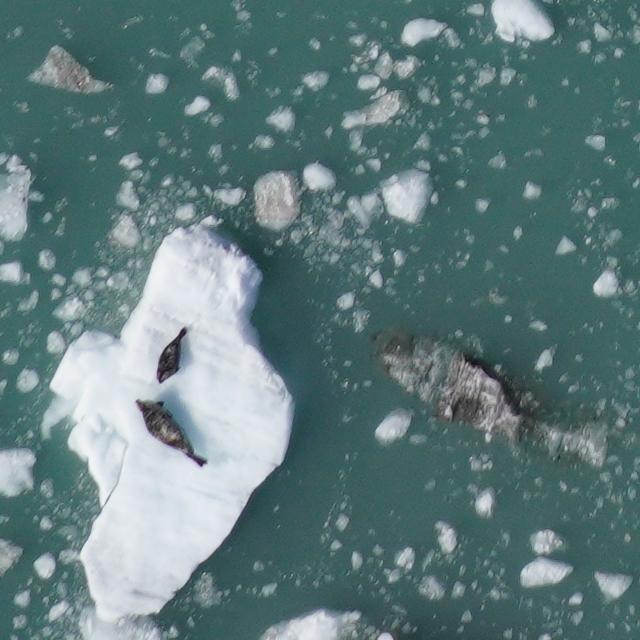seal: (133, 396, 213, 472), (153, 322, 193, 387)
